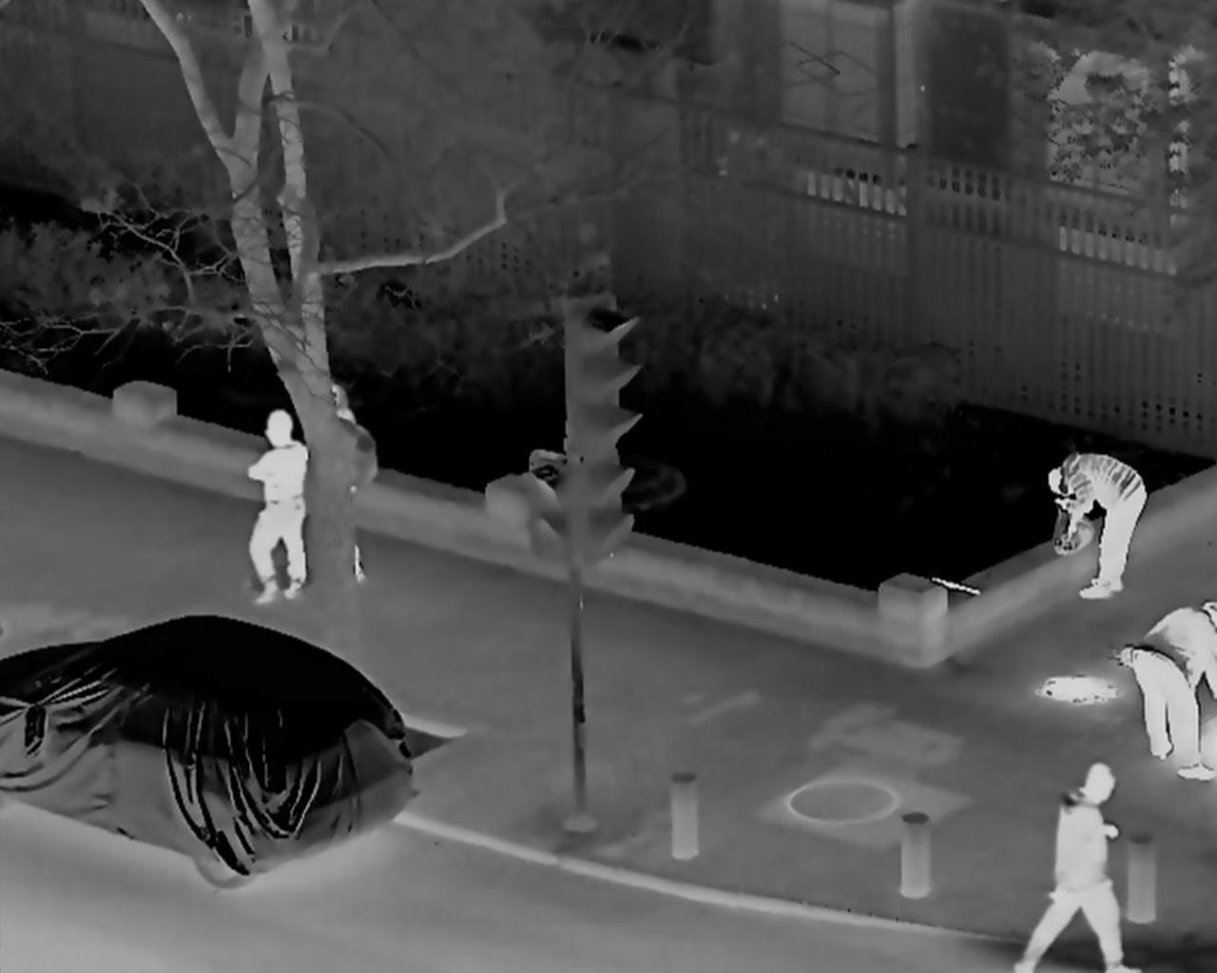person: (1010, 765, 1143, 973), (1041, 446, 1147, 602), (1133, 594, 1217, 782), (252, 415, 310, 603)
